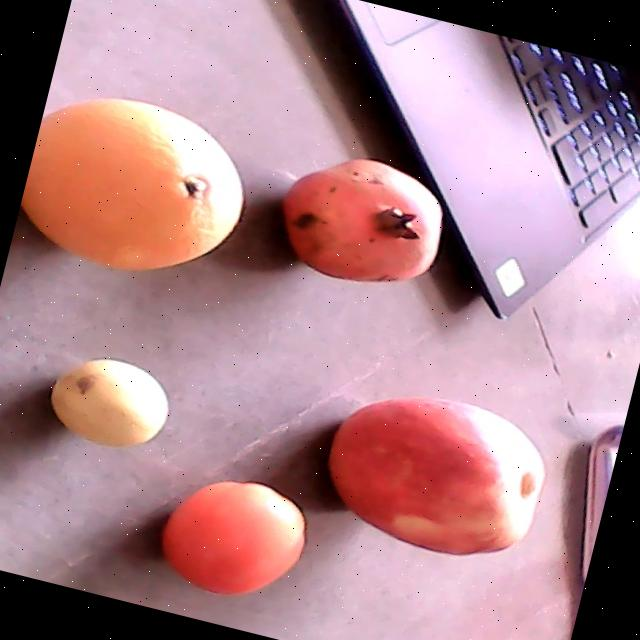apple: (327, 397, 545, 557)
lemon: (49, 359, 168, 448)
orange: (21, 98, 240, 268)
pomegranate: (283, 158, 440, 282)
tomato: (160, 482, 305, 595)
